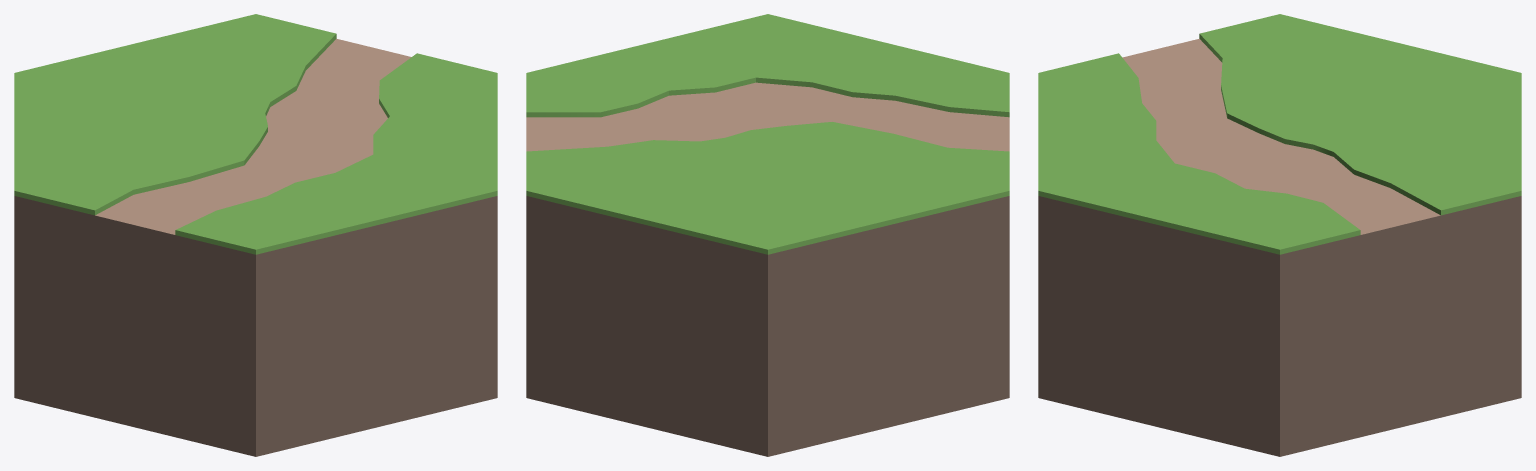
File: tile_road08.fbx
3 views of the same model, side by side, from view 1: azimuth 30°, elevation 25°; view 2: azimuth 150°, elevation 25°; view 3: azimuth 270°, elevation 25° (orthographic).
Parts seen in each view (by area): view 1: Tile_Road3; view 2: Tile_Road3; view 3: Tile_Road3.
Part boxes in pixels (<box>): Tile_Road3: <box>14,14,497,456</box>; Tile_Road3: <box>526,14,1009,456</box>; Tile_Road3: <box>1038,14,1521,456</box>.
Bounding box in the file's own units: 2 × 0.82 × 1.73.
